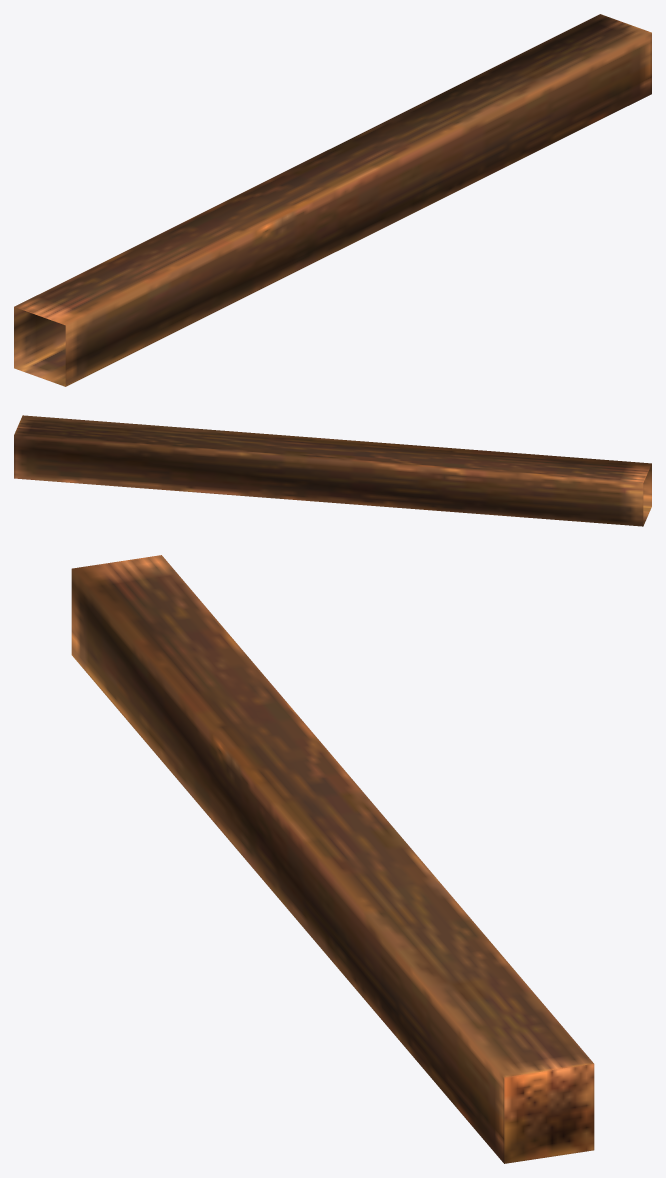
File: SWORDLIGHT20_JAILBRACE47.fbx
The picture shows the model from 3 angles, top to bottom: view 1: azimuth 30°, elevation 25°; view 2: azimuth 150°, elevation 25°; view 3: azimuth 270°, elevation 25°; orthographic projection. The views are drawn at different scales.
Parts seen in each view (by area): view 1: SWORDLIGHT20_JAILBRACE47; view 2: SWORDLIGHT20_JAILBRACE47; view 3: SWORDLIGHT20_JAILBRACE47.
Part boxes in pixels (x1,y1,x2,y2): SWORDLIGHT20_JAILBRACE47: (14,14,651,386); SWORDLIGHT20_JAILBRACE47: (14,415,651,526); SWORDLIGHT20_JAILBRACE47: (71,555,594,1163).
Size of the model in its own units: 51729 by 4000 by 21871.
1 material, 1 textured.
